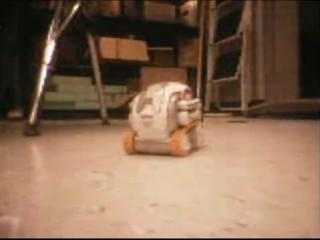cozmo: (122, 80, 205, 157)
